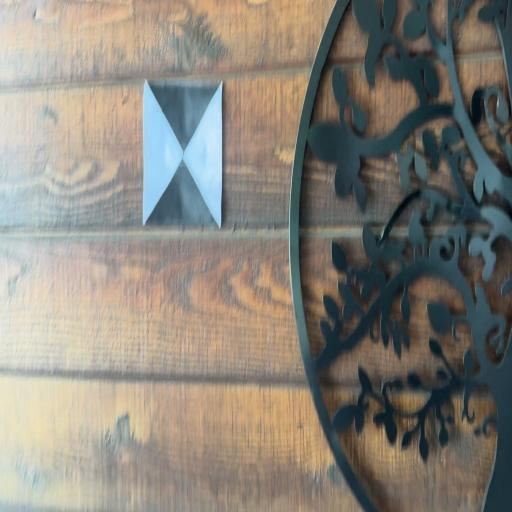target: (144, 82, 222, 228)
